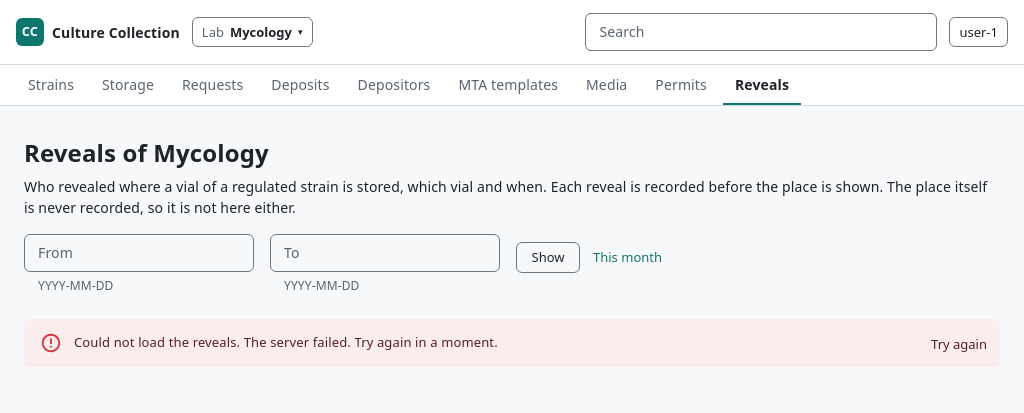
it: the reveal log › shows loading, then a retry when the load failed
Expected: the text "Could not load the reveals." is shown, [74,333,498,351]
Click the button "Try again": click(959, 345) [926,329,992,360]
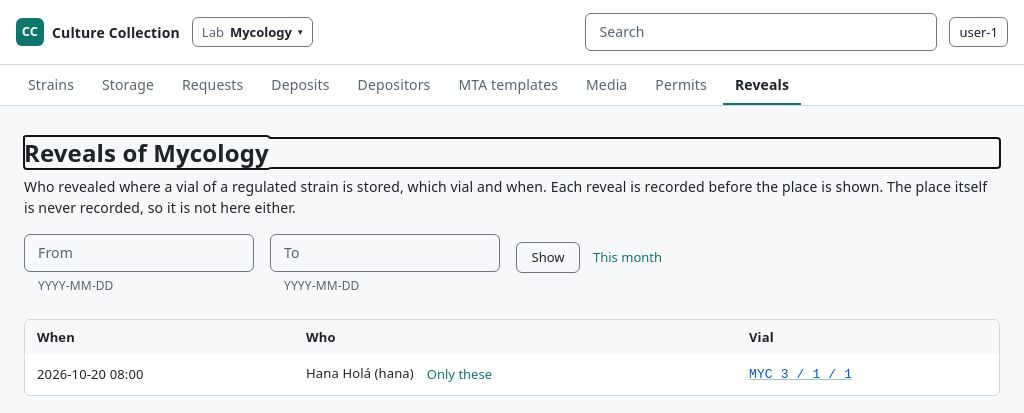
Result: the table named "Reveals" is shown at [25,320,999,395]
